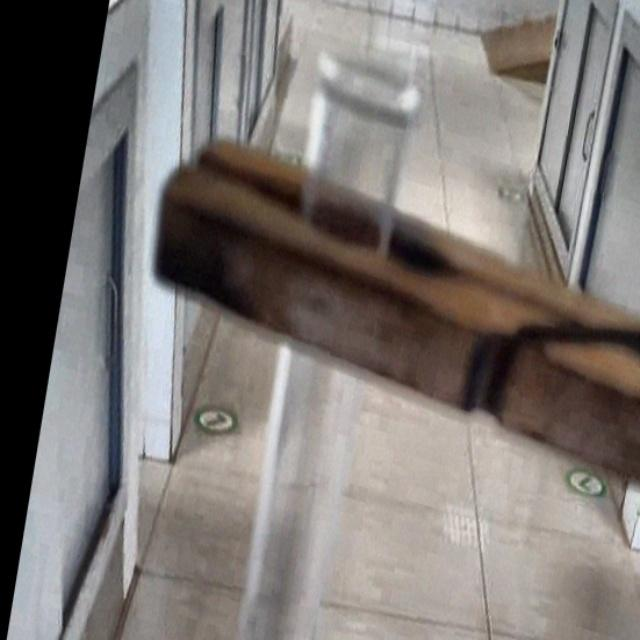Test Tube Holder: (133, 154, 640, 496)
